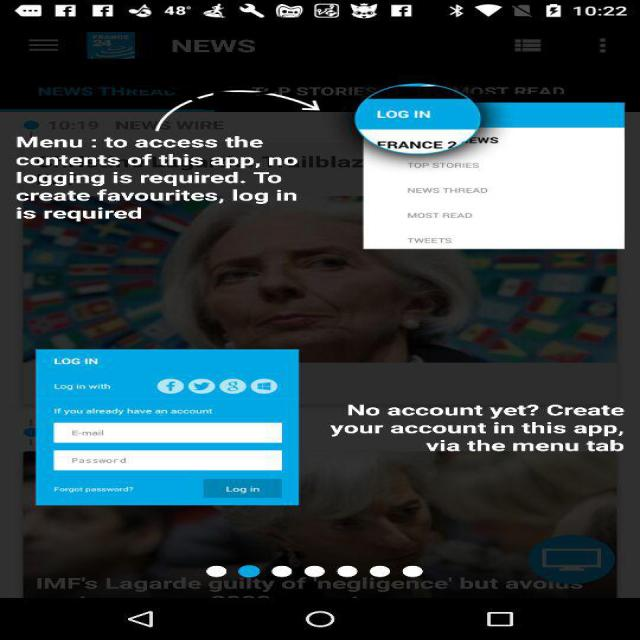obstruction: (120, 67, 283, 110)
